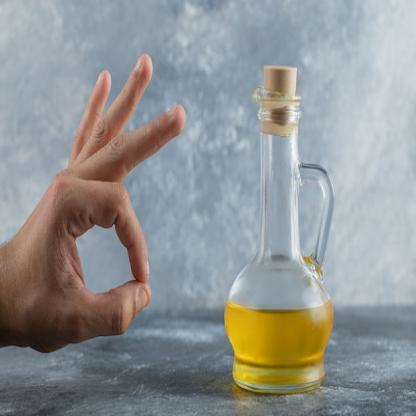ok: (12, 51, 188, 354)
